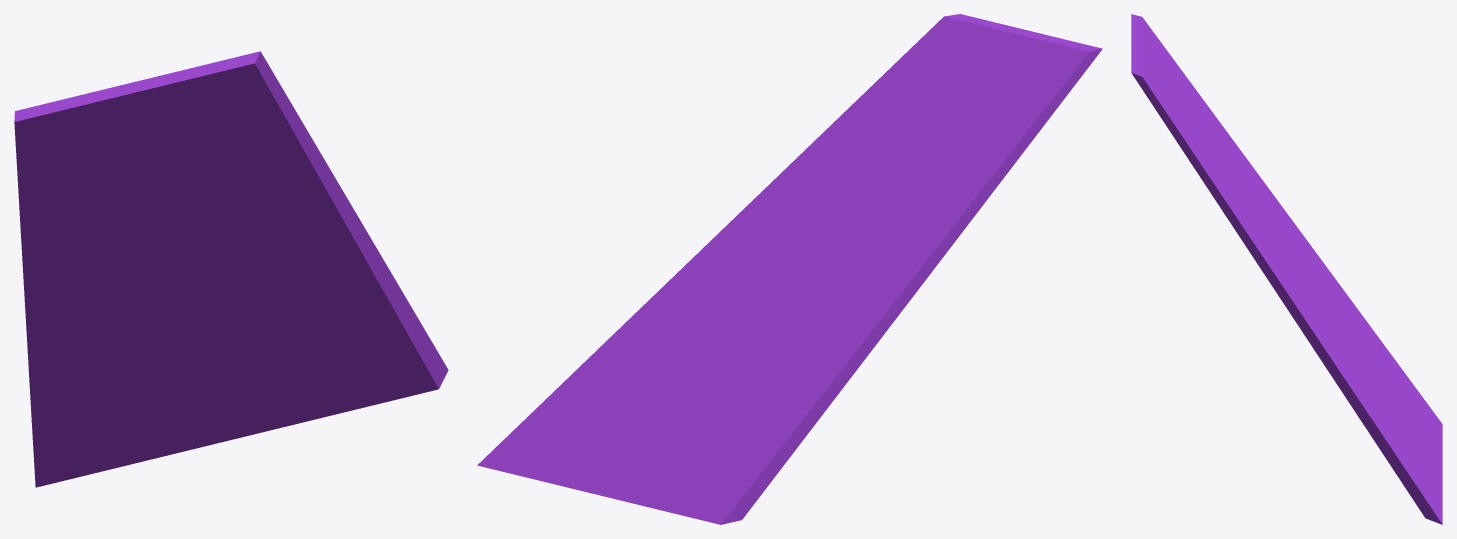
File: Window_110_chunks.fbx
3 views of the same model, side by side, from view 1: azimuth 30°, elevation 25°; view 2: azimuth 150°, elevation 25°; view 3: azimuth 270°, elevation 25° (orthographic). The views are drawn at different scales.
Visible parts, largest first — view 1: Window_110_1, Window_110_0, Window_110_7, Window_110_2, Window_110_11, Window_110_5, Window_110_8, Window_110_10, Window_110_12, Window_110_15, Window_110_14, Window_110_6 (+3 smaller); view 2: Window_110_1, Window_110_11, Window_110_0, Window_110_7, Window_110_15, Window_110_2, Window_110_8, Window_110_10, Window_110_12, Window_110_5, Window_110_13, Window_110_3 (+2 smaller); view 3: Window_110_1, Window_110_7, Window_110_13, Window_110_15, Window_110_11, Window_110_12, Window_110_10, Window_110_0, Window_110_2, Window_110_8, Window_110_5, Window_110_6 (+2 smaller).
Part boxes in pixels (left/top/right/bottom): Window_110_1: left=158, top=301, right=409, bottom=457; Window_110_0: left=29, top=351, right=174, bottom=487; Window_110_7: left=109, top=51, right=280, bottom=172; Window_110_2: left=27, top=267, right=256, bottom=375; Window_110_11: left=23, top=208, right=175, bottom=336; Window_110_5: left=161, top=142, right=325, bottom=271; Window_110_8: left=14, top=106, right=95, bottom=282; Window_110_10: left=34, top=83, right=151, bottom=214; Window_110_12: left=268, top=290, right=448, bottom=396; Window_110_15: left=203, top=158, right=340, bottom=307; Window_110_14: left=298, top=188, right=368, bottom=294; Window_110_6: left=227, top=86, right=313, bottom=177; Window_110_1: left=512, top=322, right=747, bottom=510; Window_110_11: left=813, top=174, right=943, bottom=326; Window_110_0: left=661, top=373, right=852, bottom=524; Window_110_7: left=866, top=14, right=1045, bottom=158; Window_110_15: left=690, top=166, right=817, bottom=333; Window_110_2: left=732, top=267, right=889, bottom=375; Window_110_8: left=927, top=46, right=1102, bottom=255; Window_110_10: left=888, top=35, right=1090, bottom=184; Window_110_12: left=477, top=315, right=714, bottom=473; Window_110_5: left=788, top=144, right=878, bottom=245; Window_110_13: left=496, top=264, right=693, bottom=446; Window_110_3: left=692, top=361, right=794, bottom=461; Window_110_1: left=1333, top=326, right=1442, bottom=509; Window_110_7: left=1131, top=37, right=1226, bottom=176; Window_110_13: left=1308, top=324, right=1429, bottom=505; Window_110_15: left=1242, top=226, right=1341, bottom=344; Window_110_11: left=1233, top=162, right=1316, bottom=258; Window_110_12: left=1335, top=341, right=1442, bottom=524; Window_110_10: left=1131, top=19, right=1234, bottom=177; Window_110_0: left=1348, top=296, right=1442, bottom=448; Window_110_2: left=1293, top=254, right=1352, bottom=335; Window_110_8: left=1131, top=14, right=1266, bottom=185; Window_110_5: left=1222, top=176, right=1280, bottom=246; Window_110_6: left=1164, top=122, right=1227, bottom=212.
Size of the model in its own units: 1139 by 960 by 824.
